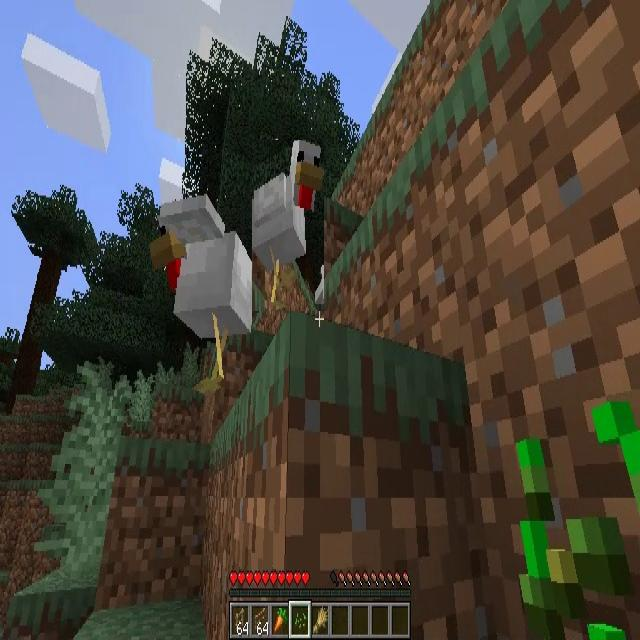duck: (153, 196, 261, 392), (252, 140, 324, 311)
